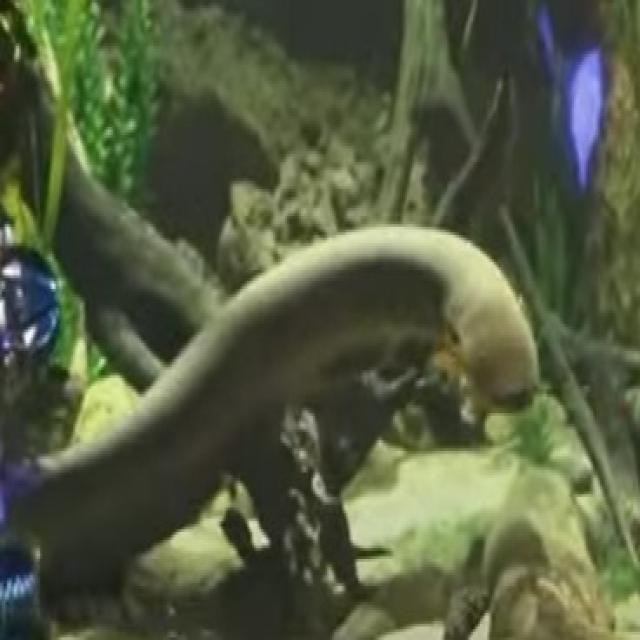Freshwater-Eel: (0, 222, 576, 580)
